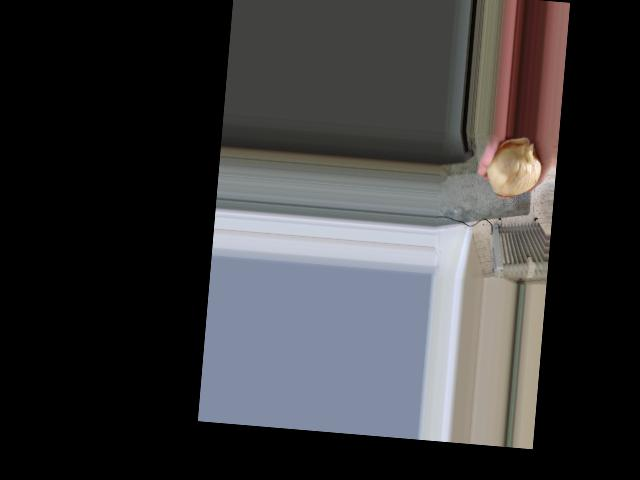onion: (485, 138, 547, 202)
